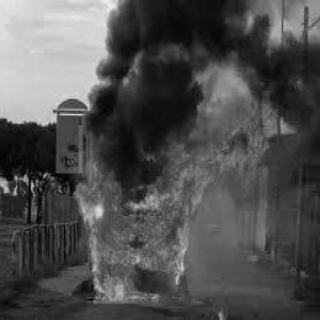Fire: (71, 89, 273, 305)
Smoke: (88, 0, 320, 128)
